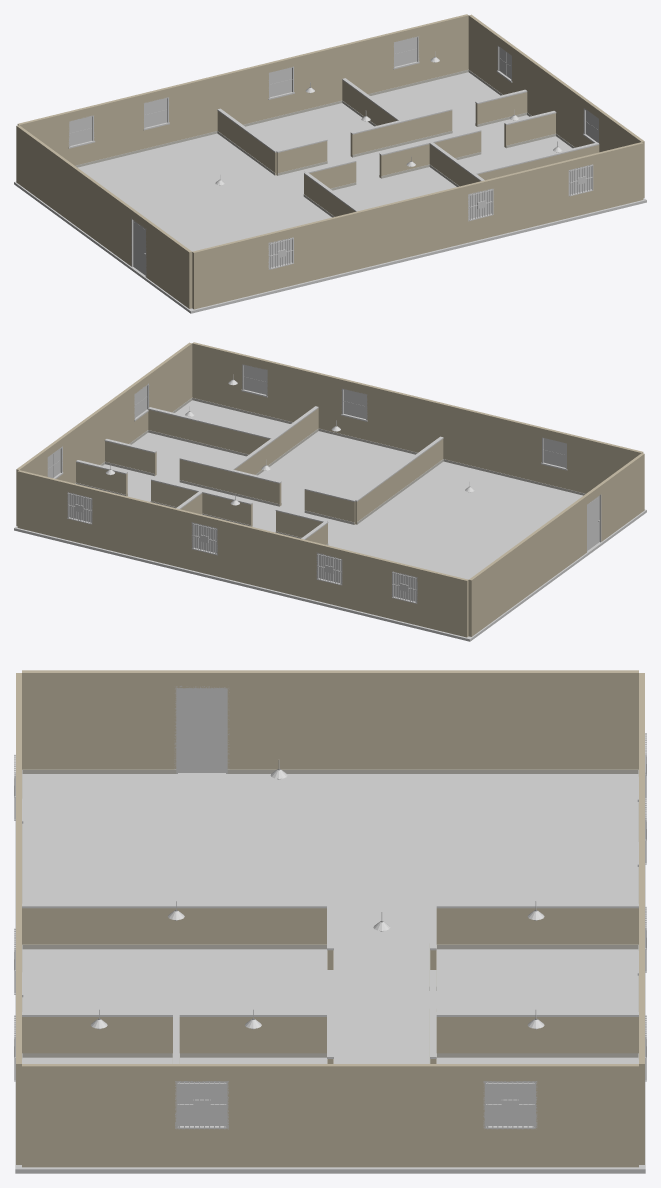
Rendered from room-house3-terrazzo.glb.
3 renders of one model, top to bottom at view 1: azimuth 30°, elevation 25°; view 2: azimuth 150°, elevation 25°; view 3: azimuth 270°, elevation 25°, orthographic. The views are drawn at different scales.
Visible parts, largest first — view 1: floor, wall_front, wall_back, partition, wall_left, wall_right, room-house3-terrazzo, glass_wall_back, glass_wall_front, glass_wall_right; view 2: floor, wall_back, wall_front, partition, wall_left, wall_right, room-house3-terrazzo, glass_wall_back, glass_wall_front, glass_wall_right; view 3: floor, wall_left, wall_right, partition, room-house3-terrazzo, wall_back, wall_front, glass_wall_right.
Part boxes in pixels (box(x1,y1,x2,y2)): floor: box(78, 72, 572, 251); wall_front: box(192, 142, 643, 309); wall_back: box(17, 14, 468, 167); partition: box(217, 78, 599, 217); wall_left: box(16, 125, 192, 308); wall_right: box(468, 14, 644, 198); room-house3-terrazzo: box(14, 52, 646, 313); glass_wall_back: box(70, 37, 416, 145); glass_wall_front: box(270, 166, 591, 267); glass_wall_right: box(499, 47, 597, 142); floor: box(103, 400, 582, 579); wall_back: box(17, 470, 468, 637); wall_front: box(192, 342, 643, 495); partition: box(76, 406, 443, 545); wall_left: box(468, 453, 644, 636); wall_right: box(16, 342, 192, 525); room-house3-terrazzo: box(14, 374, 646, 641); glass_wall_back: box(69, 494, 415, 601); glass_wall_front: box(244, 365, 565, 467); glass_wall_right: box(48, 386, 146, 477); floor: box(22, 774, 638, 1063); wall_left: box(22, 670, 638, 773); wall_right: box(22, 1064, 638, 1167); partition: box(22, 903, 638, 1063); room-house3-terrazzo: box(15, 760, 645, 1173); wall_back: box(637, 673, 646, 1164); wall_front: box(14, 673, 23, 1164); glass_wall_right: box(178, 1084, 533, 1125).
Bounding box in the file's own units: 21.95 × 2.75 × 14.78.
